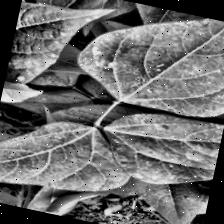Bean Rust: (72, 0, 224, 123), (1, 0, 117, 115), (100, 102, 224, 197), (122, 1, 224, 49)
